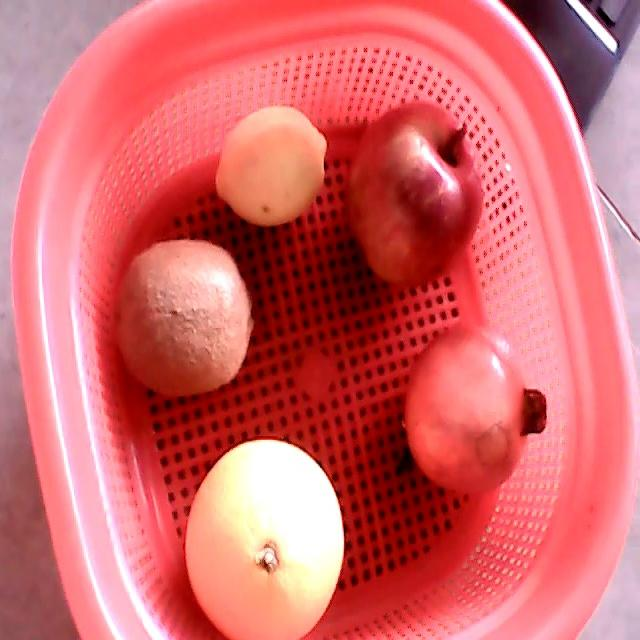apple: (346, 102, 486, 288)
kiwi: (112, 240, 255, 398)
lemon: (215, 105, 328, 224)
orange: (184, 438, 345, 639)
pomegranate: (404, 321, 546, 498)
